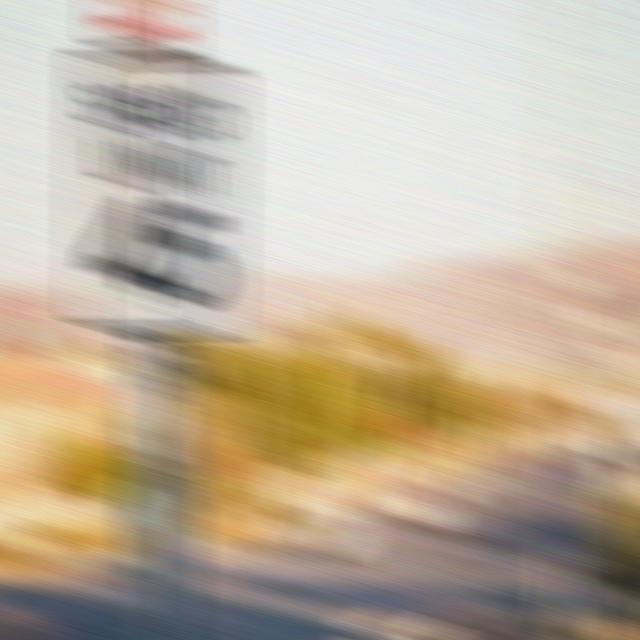speedLimit45: (60, 34, 238, 343)
